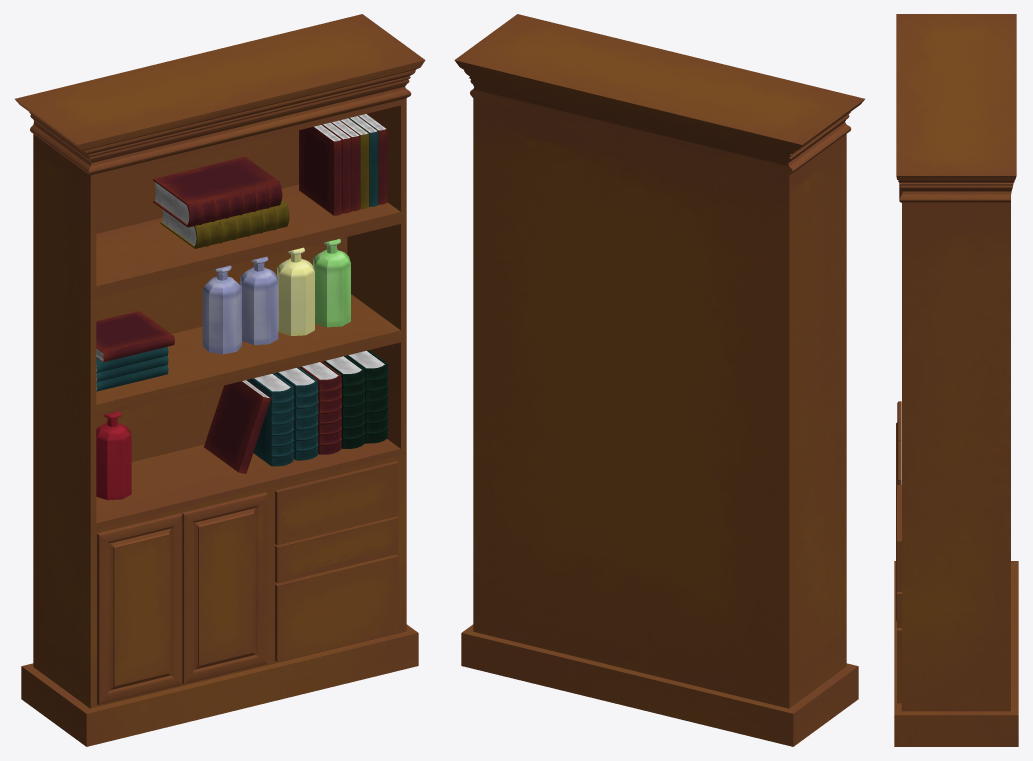
File: Librero.glb
3 renders of one model, left to right at view 1: azimuth 30°, elevation 25°; view 2: azimuth 150°, elevation 25°; view 3: azimuth 270°, elevation 25°, orthographic. The views are drawn at different scales.
Parts seen in each view (by area): view 1: Bookshelf, L_Door, R_Door, Drawer_3, Drawer_1, pCube27, Drawer_2, pCube29, pCube39, pCube47, pCube25, pCube48 (+17 smaller); view 2: Bookshelf; view 3: Bookshelf, Drawer_1, L_Door, Drawer_3, R_Door.
Part boxes in pixels (left/top/right/bottom): Bookshelf: left=15, top=14, right=425, bottom=746; L_Door: left=182, top=492, right=267, bottom=684; R_Door: left=97, top=513, right=182, bottom=704; Drawer_3: left=275, top=554, right=398, bottom=661; Drawer_1: left=275, top=461, right=398, bottom=545; pCube27: left=153, top=156, right=282, bottom=227; Drawer_2: left=275, top=516, right=398, bottom=583; pCube29: left=204, top=380, right=271, bottom=473; pCube39: left=299, top=124, right=342, bottom=215; pCube47: left=202, top=265, right=241, bottom=354; pCube25: left=247, top=373, right=294, bottom=466; pCube48: left=240, top=256, right=278, bottom=344; Bookshelf: left=454, top=14, right=864, bottom=746; Bookshelf: left=894, top=14, right=1018, bottom=746; Drawer_1: left=897, top=485, right=901, bottom=591; L_Door: left=896, top=440, right=901, bottom=620; Drawer_3: left=897, top=628, right=901, bottom=703; R_Door: left=896, top=401, right=901, bottom=462.
Size of the model in its own units: 0.1228 by 0.2034 by 0.0398.
8 materials, 8 textured.
